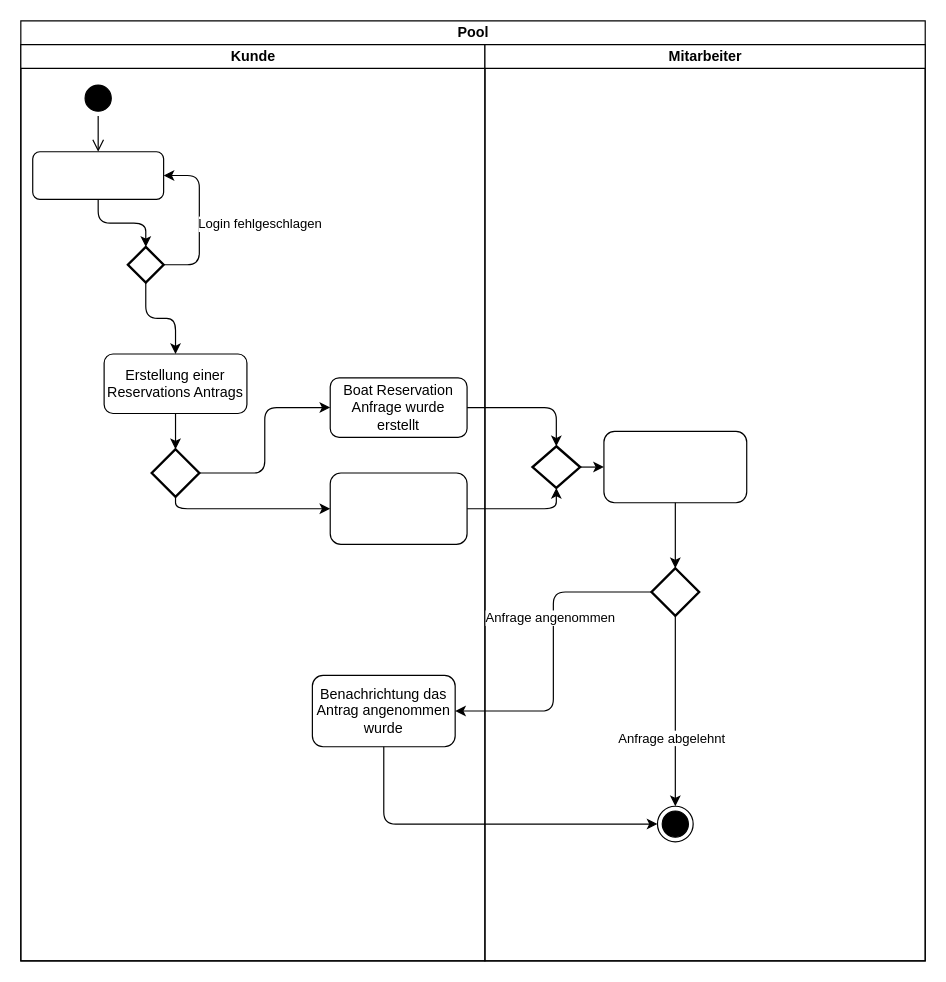
This 946x982 diagram has some shape labels left out. Each missing label, with the centre of its shape:
Kunde login in Verlieh Webseite: the point at 98,175
Kunden Reservations Anfrage angezeigt: the point at 675,466
Liegeplatz Reservation Anfrage wurde erstellt: the point at 398,508
